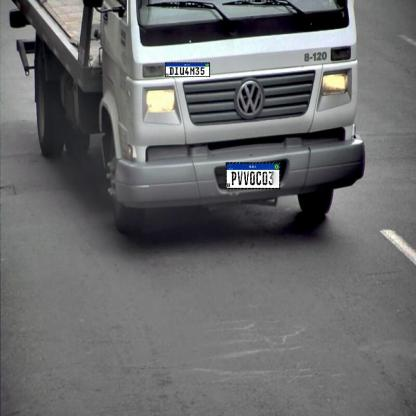PlacaM: (226, 162, 280, 190), (165, 62, 210, 77)
